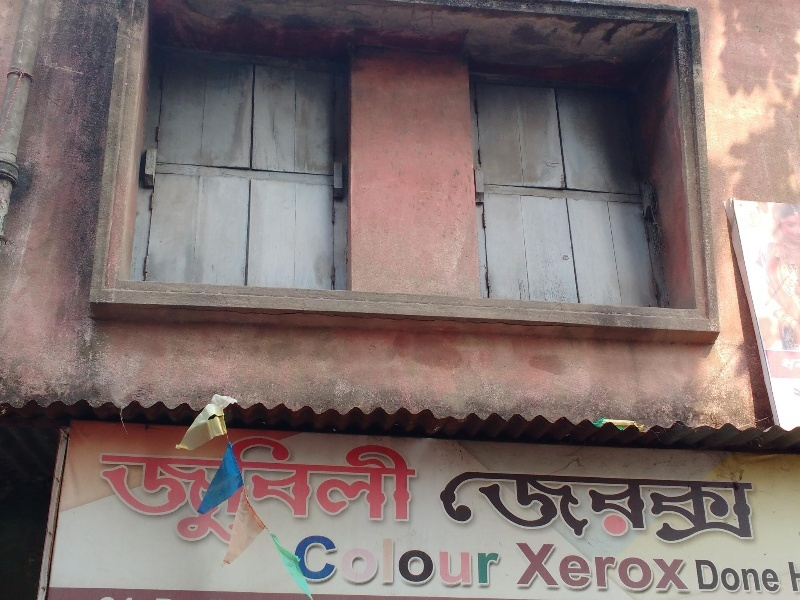text: (113, 434, 128, 547), (129, 434, 144, 547), (145, 434, 160, 547), (161, 434, 176, 547), (177, 434, 192, 547), (193, 434, 208, 547), (209, 434, 224, 547), (225, 434, 240, 547), (241, 434, 256, 547), (257, 434, 272, 547), (273, 434, 288, 547), (289, 434, 304, 547), (305, 434, 320, 547), (321, 434, 336, 547), (337, 434, 352, 547), (353, 434, 368, 547), (369, 434, 384, 547), (385, 434, 400, 547), (401, 434, 416, 547), (100, 434, 112, 547), (449, 468, 464, 544), (465, 468, 480, 544), (481, 468, 496, 544), (497, 468, 512, 544), (513, 468, 528, 544), (529, 468, 544, 544), (545, 468, 560, 544), (561, 468, 576, 544), (577, 468, 592, 544), (593, 468, 608, 544), (609, 468, 624, 544), (625, 468, 640, 544), (641, 468, 656, 544), (657, 468, 672, 544), (673, 468, 688, 544), (689, 468, 704, 544), (705, 468, 720, 544), (721, 468, 736, 544), (737, 468, 752, 544), (305, 533, 320, 600), (321, 533, 336, 600), (337, 533, 352, 600), (353, 533, 368, 600), (369, 533, 384, 600), (385, 533, 400, 600), (401, 533, 416, 600), (417, 533, 432, 600), (433, 533, 448, 600), (449, 533, 464, 600), (465, 533, 480, 600), (481, 533, 496, 600), (513, 536, 528, 599), (529, 536, 544, 599), (545, 536, 560, 599), (561, 536, 576, 599), (577, 536, 592, 599), (593, 536, 608, 599), (609, 536, 624, 599), (625, 536, 640, 599), (641, 536, 656, 599), (657, 536, 672, 599), (673, 536, 688, 599), (497, 533, 508, 600), (705, 552, 720, 598), (721, 552, 736, 598), (737, 552, 752, 598), (753, 552, 768, 598), (769, 552, 784, 598), (296, 533, 304, 600), (694, 552, 704, 598), (753, 468, 758, 544), (417, 434, 420, 547), (790, 563, 800, 594), (508, 536, 512, 599), (689, 536, 692, 599), (446, 468, 448, 544)
